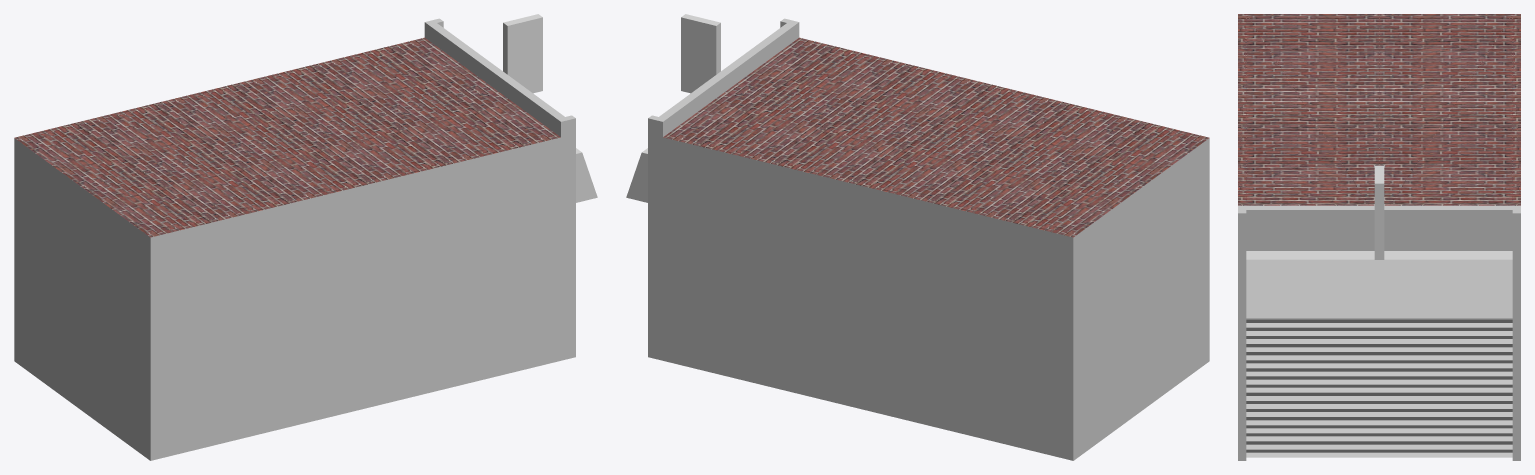
The model's file is shop2.fbx.
The picture shows the model from 3 angles, left to right: view 1: azimuth 30°, elevation 25°; view 2: azimuth 150°, elevation 25°; view 3: azimuth 270°, elevation 25°; orthographic projection. The views are drawn at different scales.
Parts seen in each view (by area): view 1: Cube, Cube.001; view 2: Cube, Cube.001; view 3: Cube, Cube.001.
Boxes of the visible parts, x1=… form: Cube: x1=14, y1=18, x2=597, y2=460; Cube.001: x1=503, y1=14, x2=542, y2=93; Cube: x1=626, y1=18, x2=1209, y2=460; Cube.001: x1=681, y1=14, x2=720, y2=93; Cube: x1=1238, y1=14, x2=1520, y2=460; Cube.001: x1=1374, y1=165, x2=1384, y2=259.
Size of the model in its own units: 1398 by 827 by 720.
